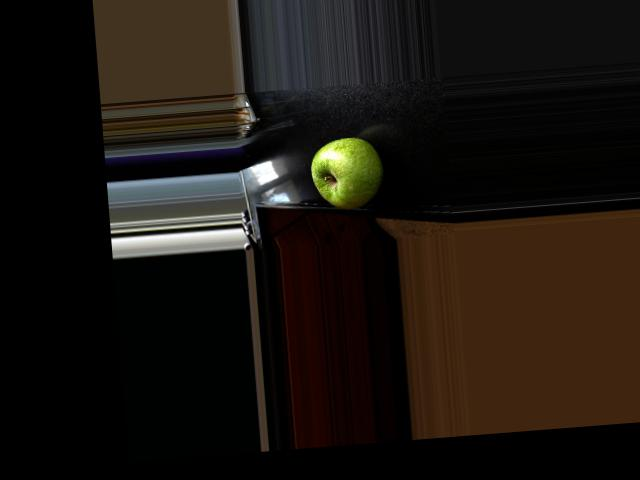apple: (304, 131, 390, 213)
